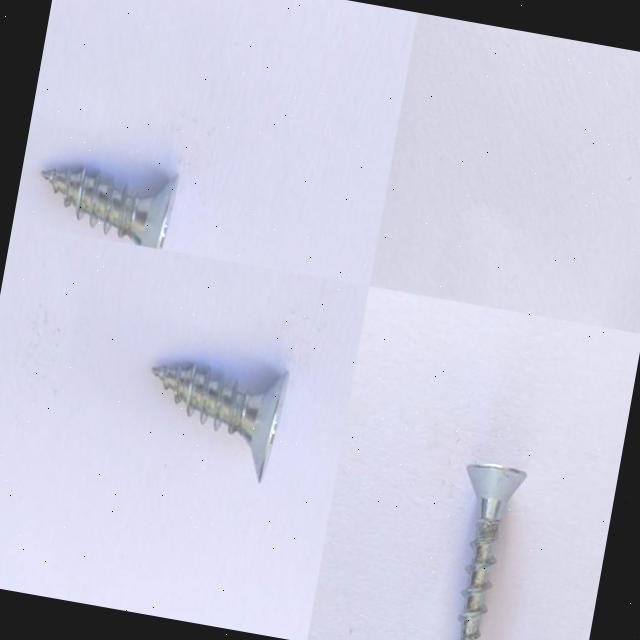Screw: (151, 365, 288, 484), (457, 464, 526, 640), (40, 168, 178, 249)
